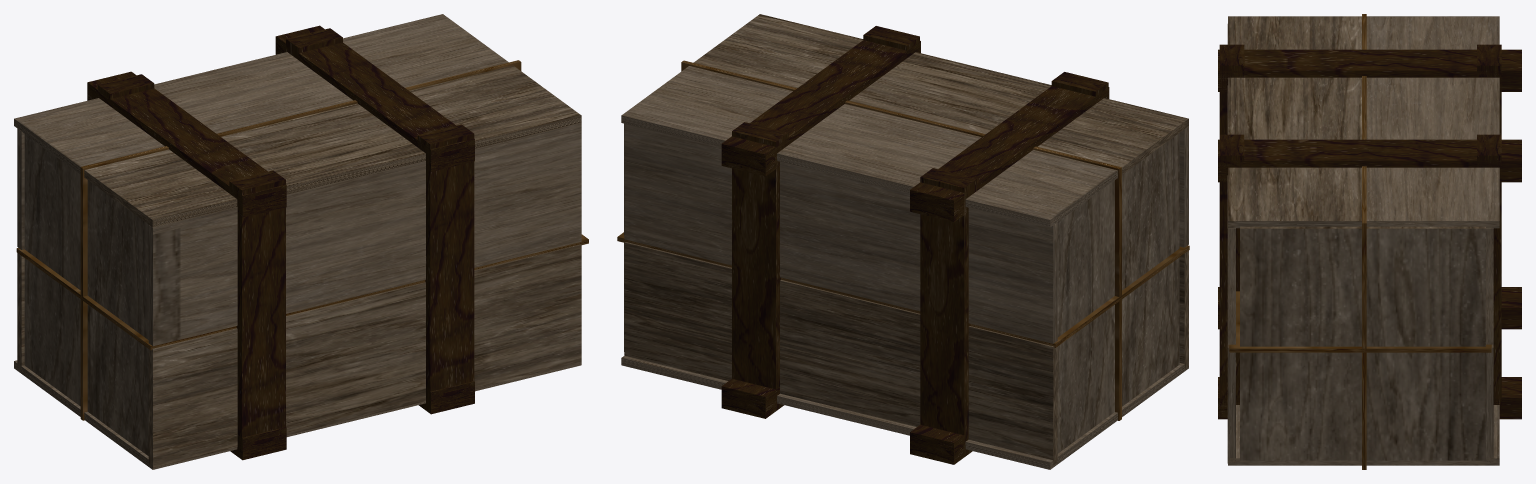
The model's file is caisse.glb.
3 renders of one model, left to right at view 1: azimuth 30°, elevation 25°; view 2: azimuth 150°, elevation 25°; view 3: azimuth 270°, elevation 25°, orthographic. The views are drawn at different scales.
Visible parts, largest first — view 1: caisse:caisse; view 2: caisse:caisse; view 3: caisse:caisse.
Part boxes in pixels (x1,y1,x2,y2): caisse:caisse: (14,14,588,469); caisse:caisse: (617,14,1189,469); caisse:caisse: (1218,14,1521,469).
Bounding box in the file's own units: 29.51 × 17.34 × 18.11.
1 material, 1 textured.
